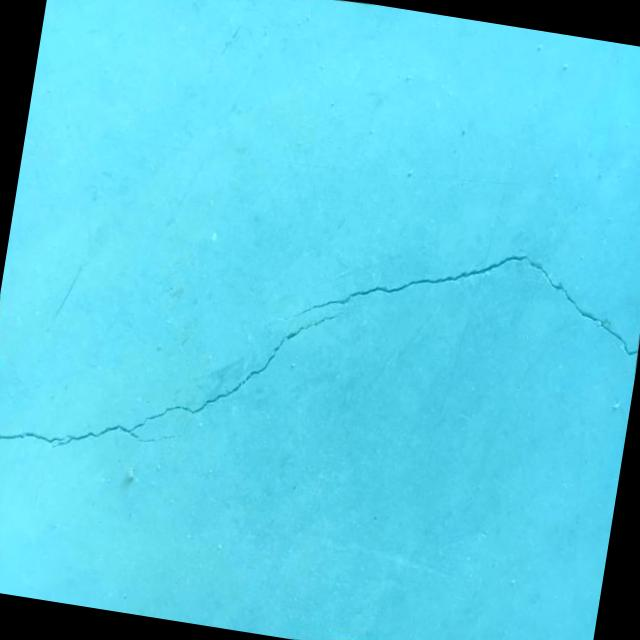crack: (0, 259, 349, 500), (275, 211, 640, 378)
